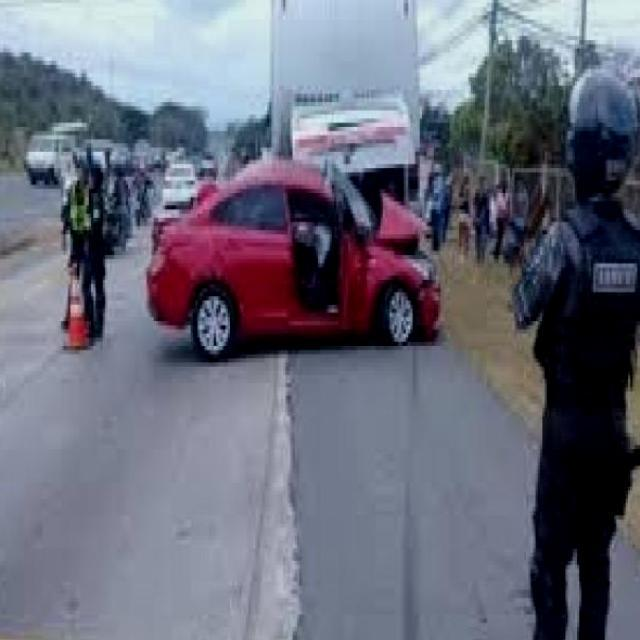accident: (271, 92, 461, 385)
